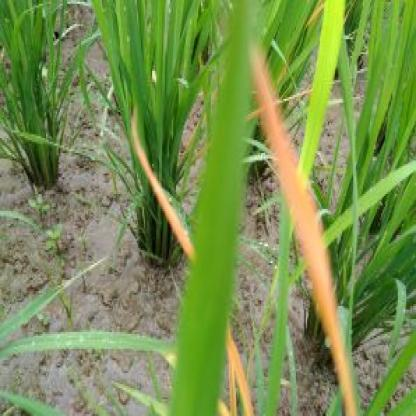Tungro: (280, 67, 356, 411)
